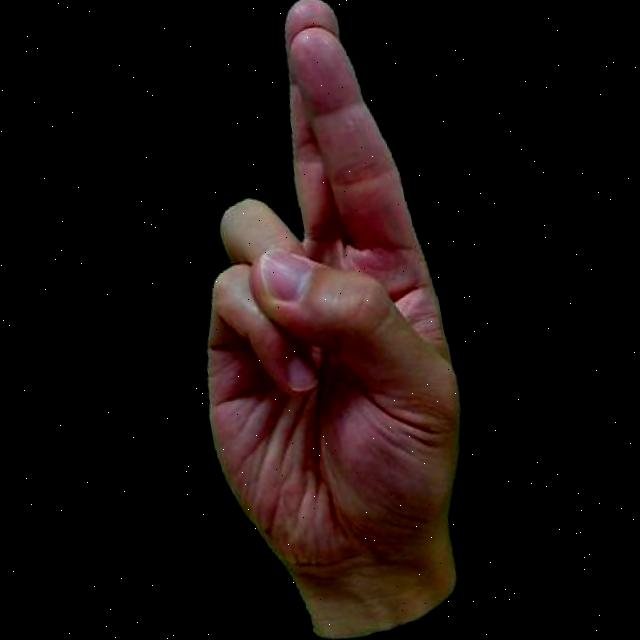r: (123, 0, 512, 640)
